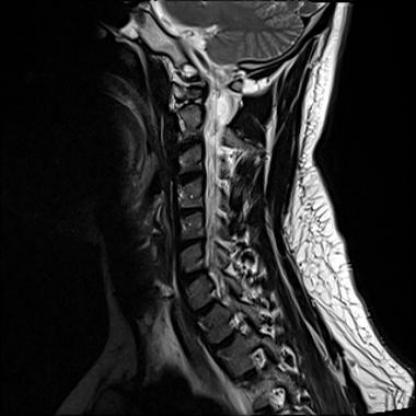Disc Bulgerotation: (175, 236, 207, 251)
